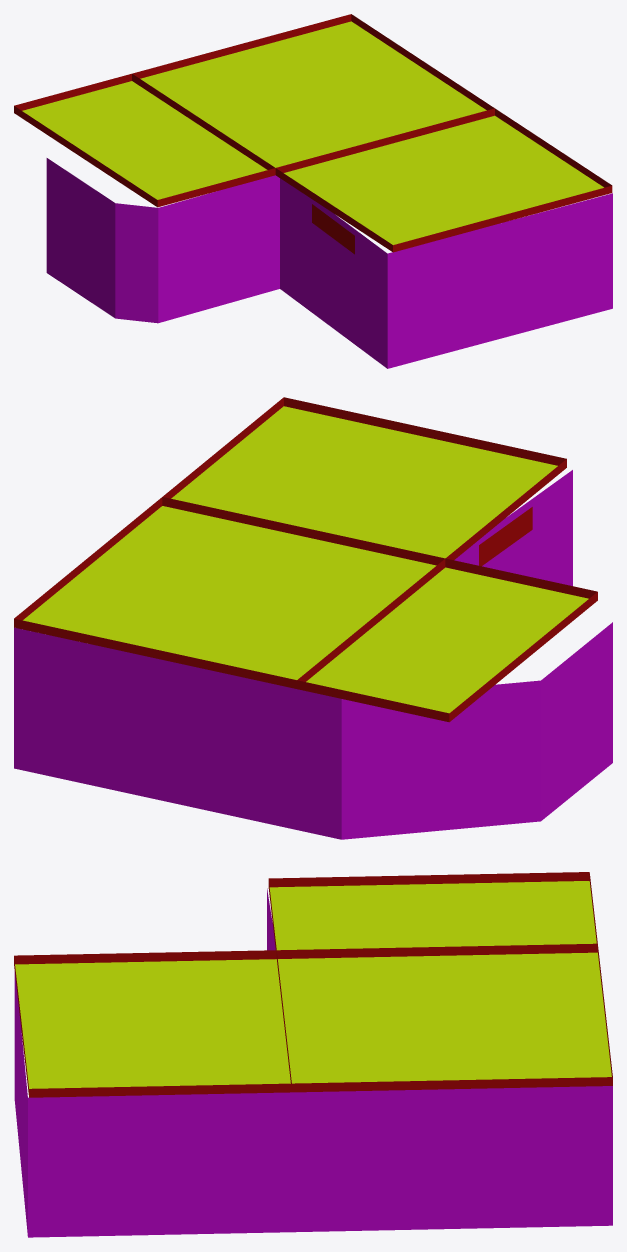
File: bgj_215.glb
The picture shows the model from 3 angles, top to bottom: view 1: azimuth 30°, elevation 25°; view 2: azimuth 150°, elevation 25°; view 3: azimuth 270°, elevation 25°; orthographic projection. The views are drawn at different scales.
Parts seen in each view (by area): view 1: bgj_215; view 2: bgj_215; view 3: bgj_215.
Part boxes in pixels (box(x1,y1,x2,y2)): bgj_215: box(14, 14, 612, 368); bgj_215: box(14, 397, 612, 839); bgj_215: box(14, 872, 612, 1237).
Size of the model in its own units: 19.35 by 5.85 by 21.35.
